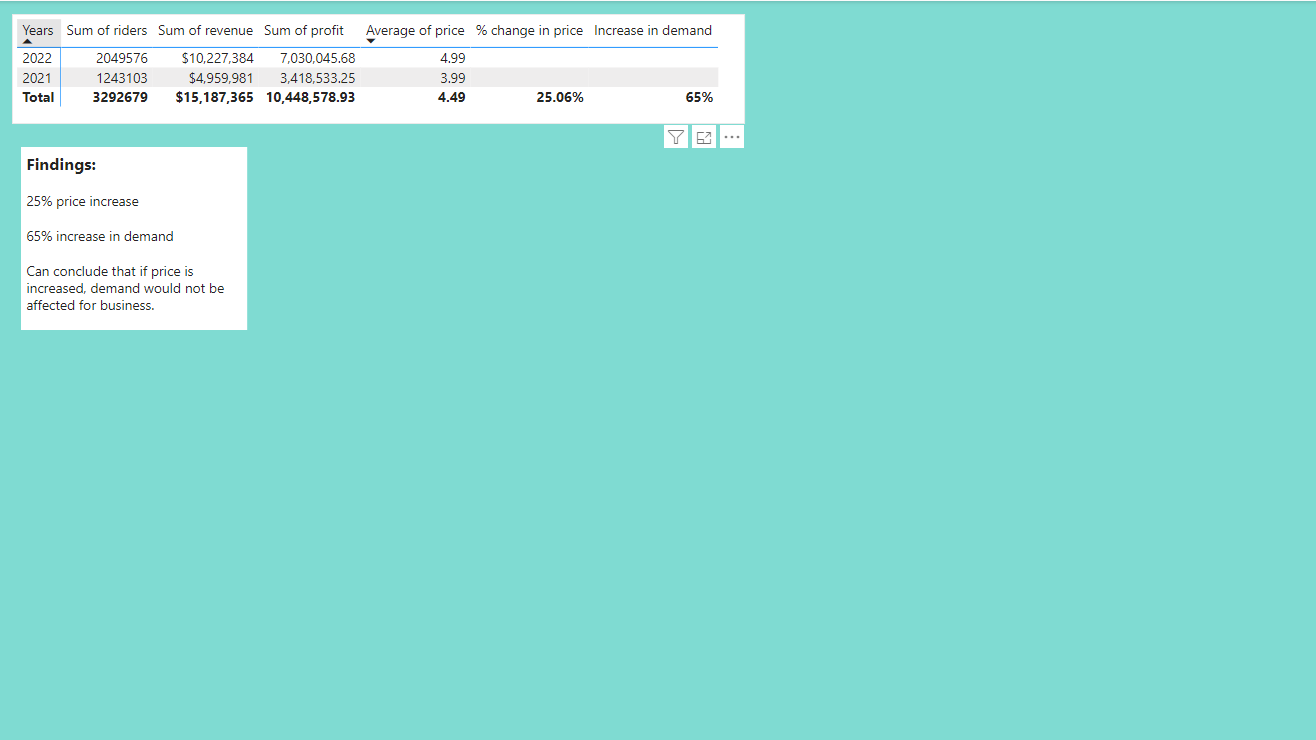

This screenshot's page, from the dashboard's own definition file:
{"tool":"powerbi","page":{"name":"Page 1","canvas":[1280,720],"ordinal":1},"visuals":[{"type":"pivotTable","fields":{"Rows":["Query1.Years"],"Values":["Sum(Query1.riders)","Sum(Query1.revenue)","Sum(Query1.profit)","Avg(Query1.price)","Query1.% change in price","Query1.Increase in riders"]},"box":[11.7,12.6,712.9,107],"z":0},{"type":"textbox","box":[34,167.3,219.8,178],"z":1}]}

Visuals, with their boxes in screenshot pixels (x1, y1, x2, y2), scaled from the page's 1280x720 canvas onto the 1316x740 screenshot:
pivotTable - Query1.Years x Sum(Query1.riders): (12,13,745,123)
textbox: (35,172,261,355)
